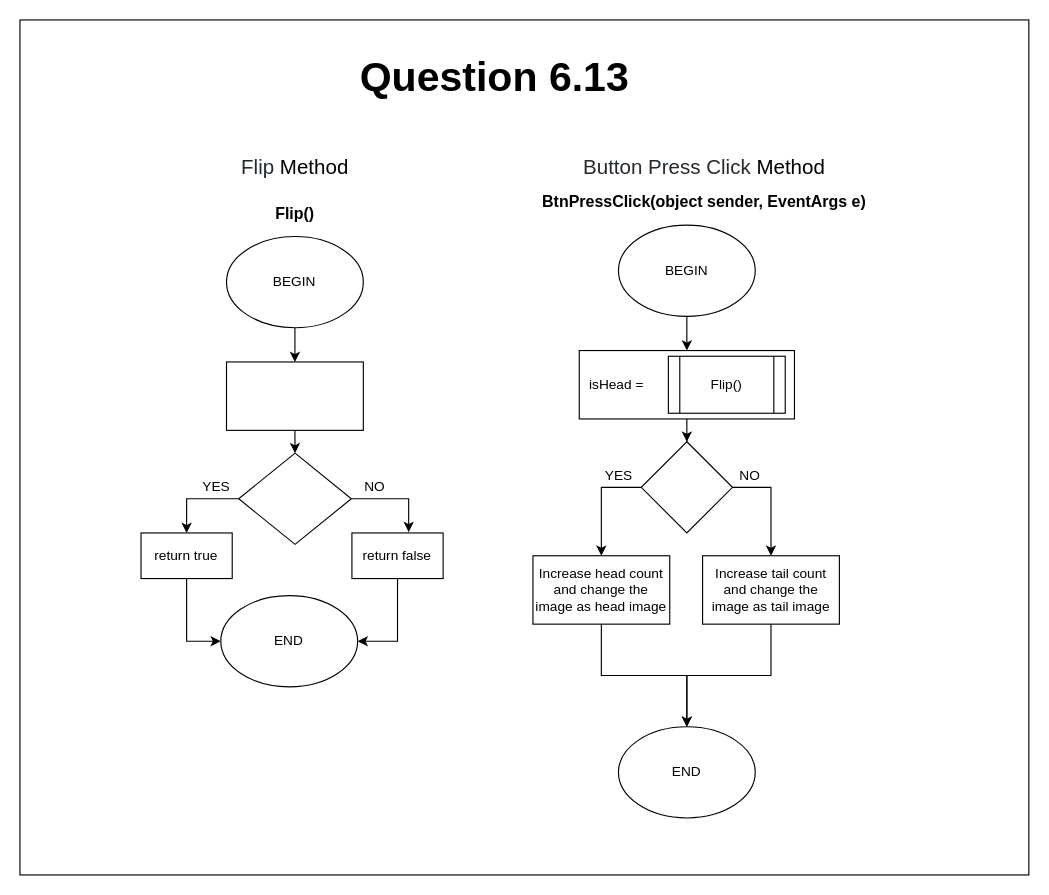
Some shapes in this 1049 by 895 pixel diagram are drawn without their labels. Each missing label, with the centre of its shape:
"declare number randomly (1 or 2)" belongs at pixel 294 395.
"isHead" belongs at pixel 686 487.
"number == 1" belongs at pixel 294 498.
